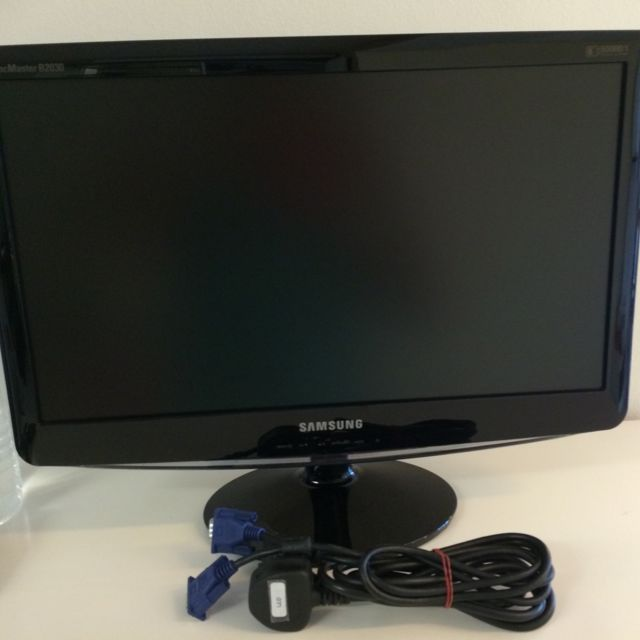samsung-monitor-b2030: (1, 21, 640, 560)
